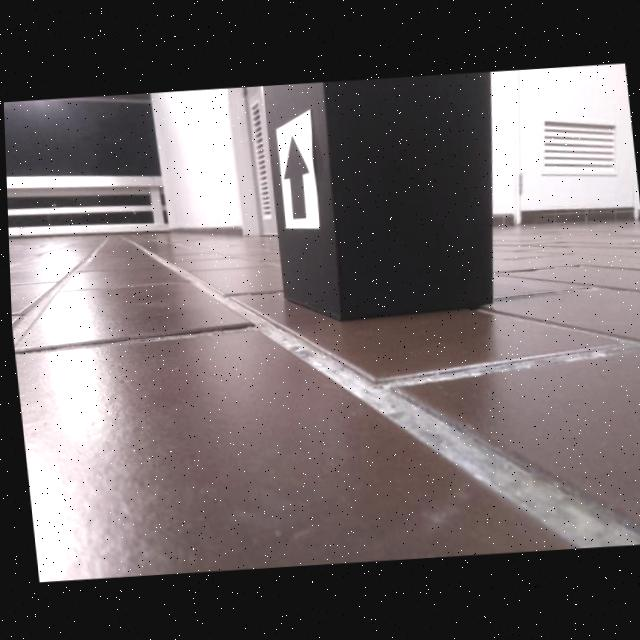UP: (282, 134, 309, 219)
